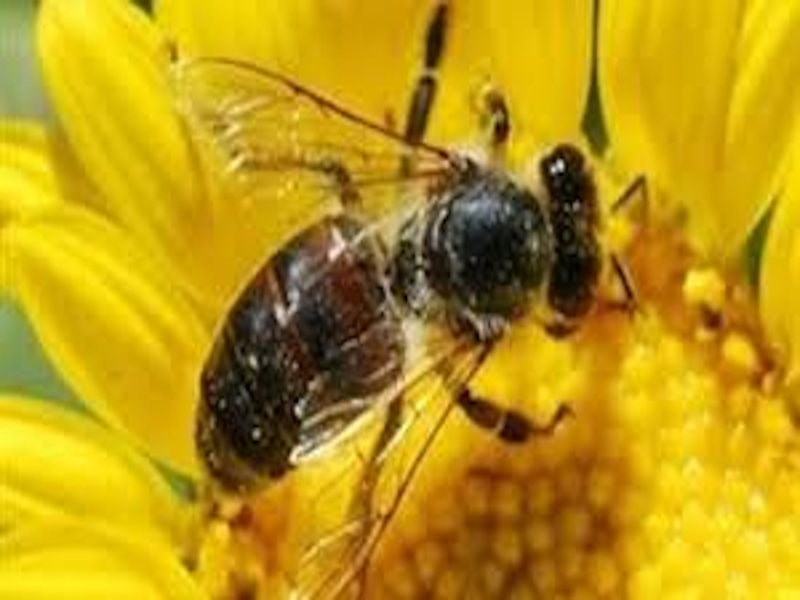abeja: (160, 34, 674, 600)
